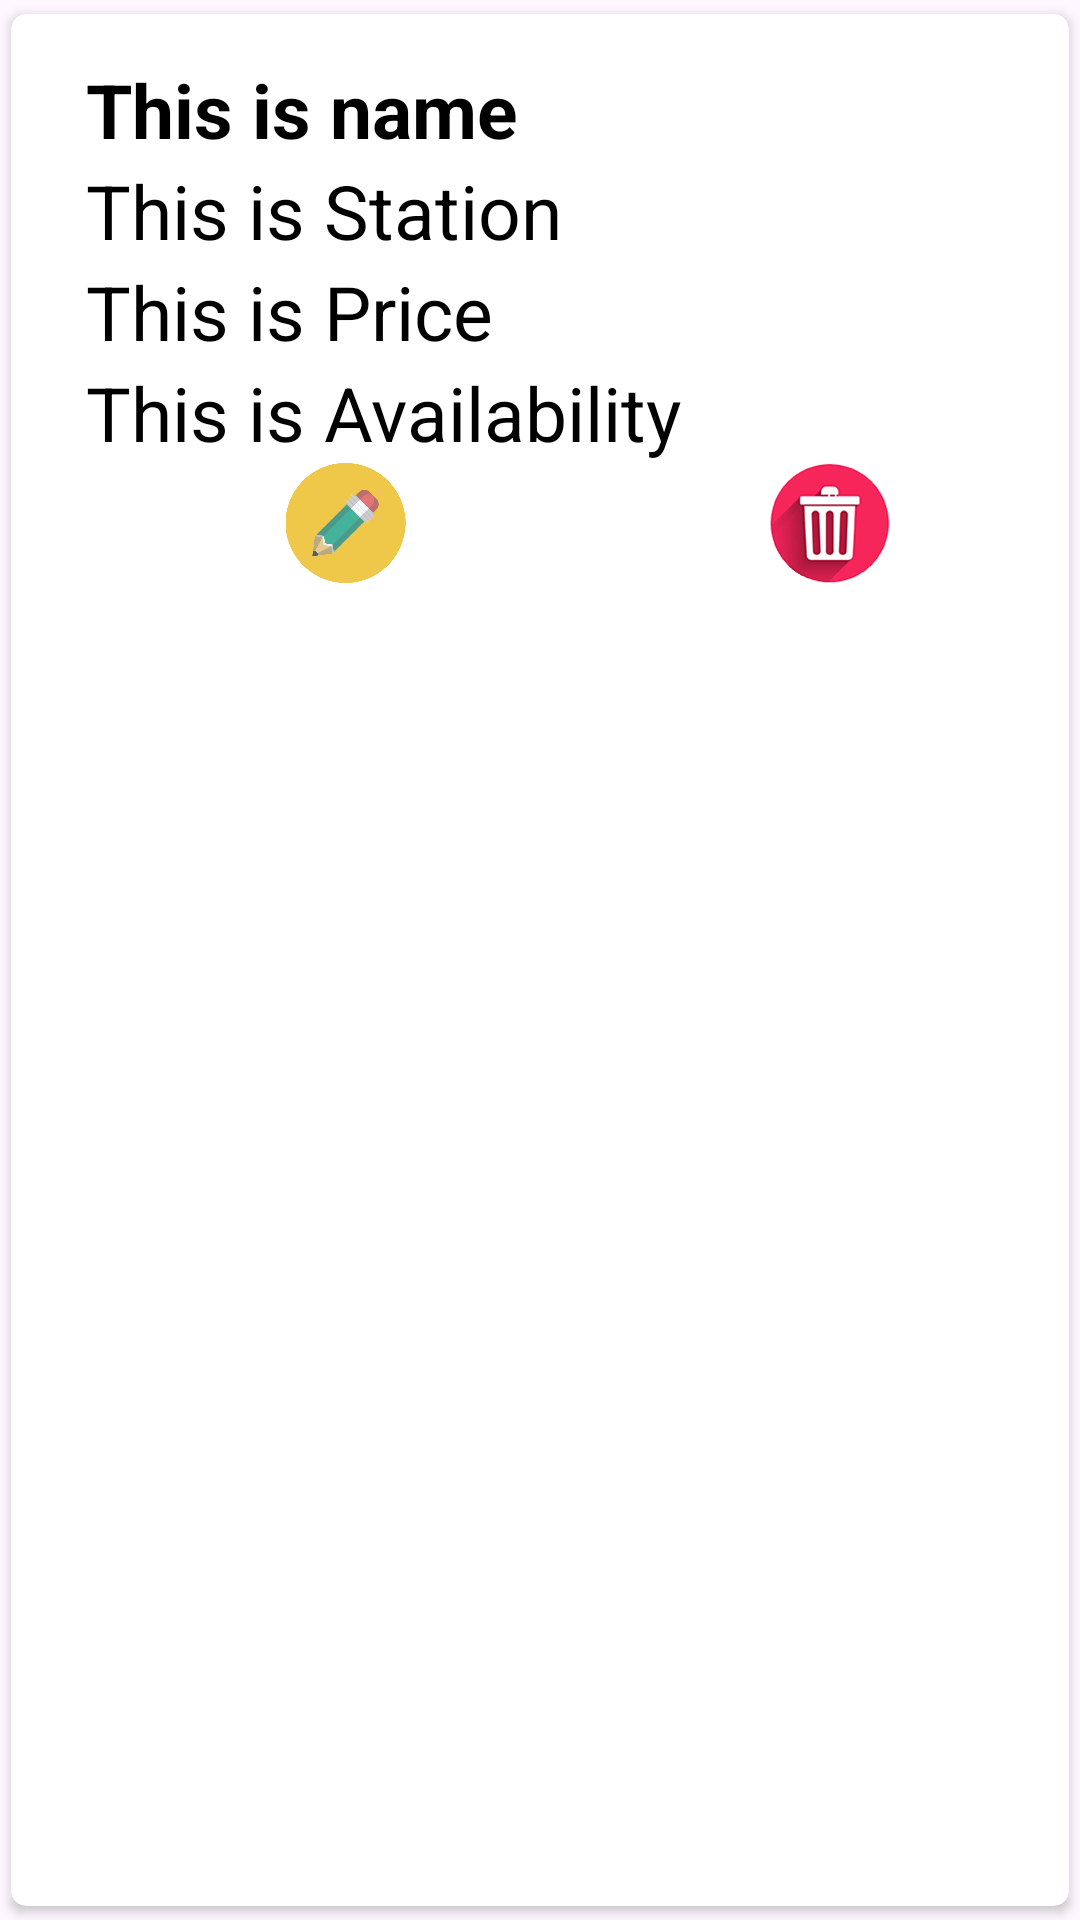

Where to tap for icons on this 1080 x 1920 app screen, as point (x, y):
delete: point (830, 523)
edit: point (346, 523)
